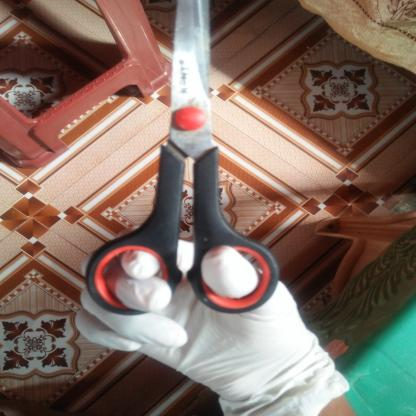gloved_hand: (69, 222, 353, 414)
